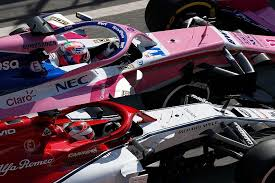FormulaOneCar: (1, 1, 275, 110), (4, 105, 275, 183)
